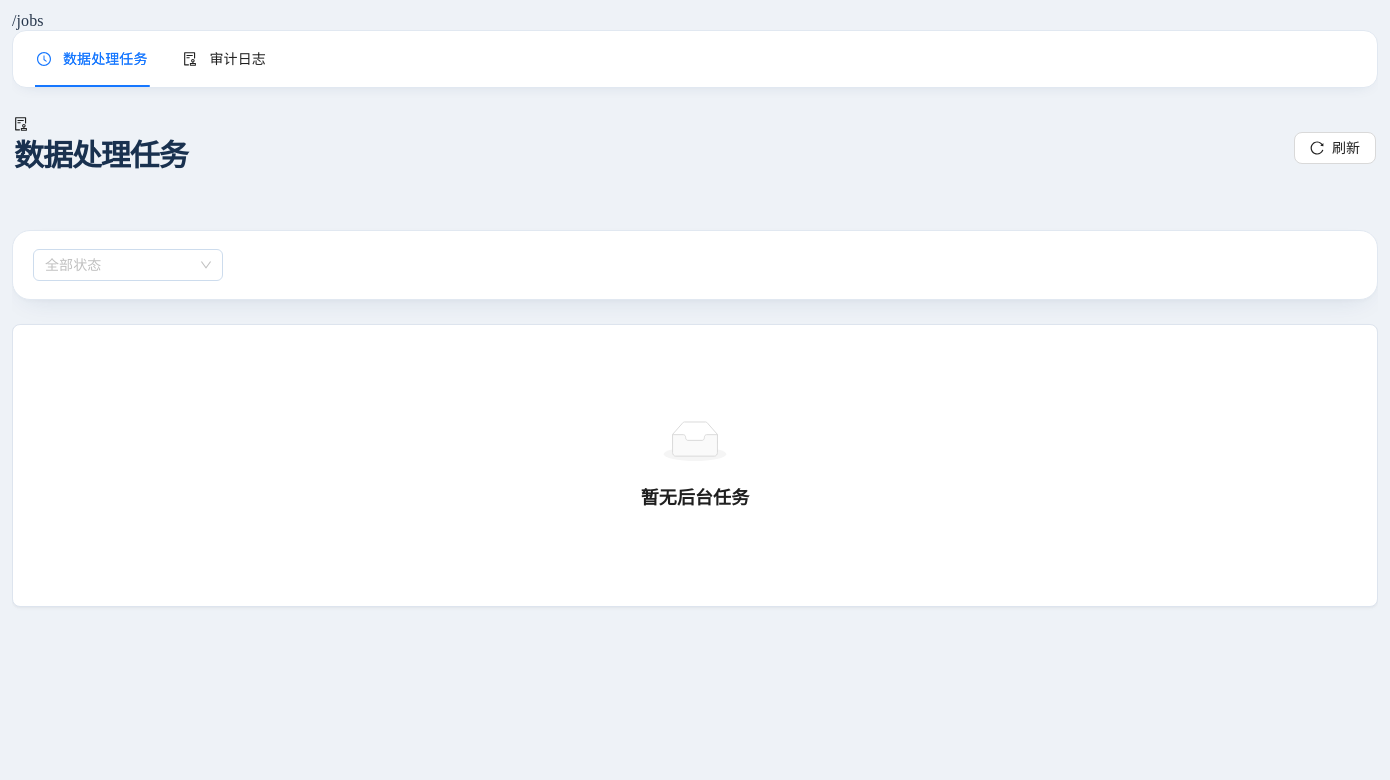
Test case: Tasks and audit workspace › switches between existing task and audit URLs with working audit export
Check: the heading "暂无后台任务" is shown, box [641,487,749,508]
What coordinates should you click on to do the following:
click the tab "审计日志"
I would click on:
 (225, 59)
Its box is [184,48,266,70].
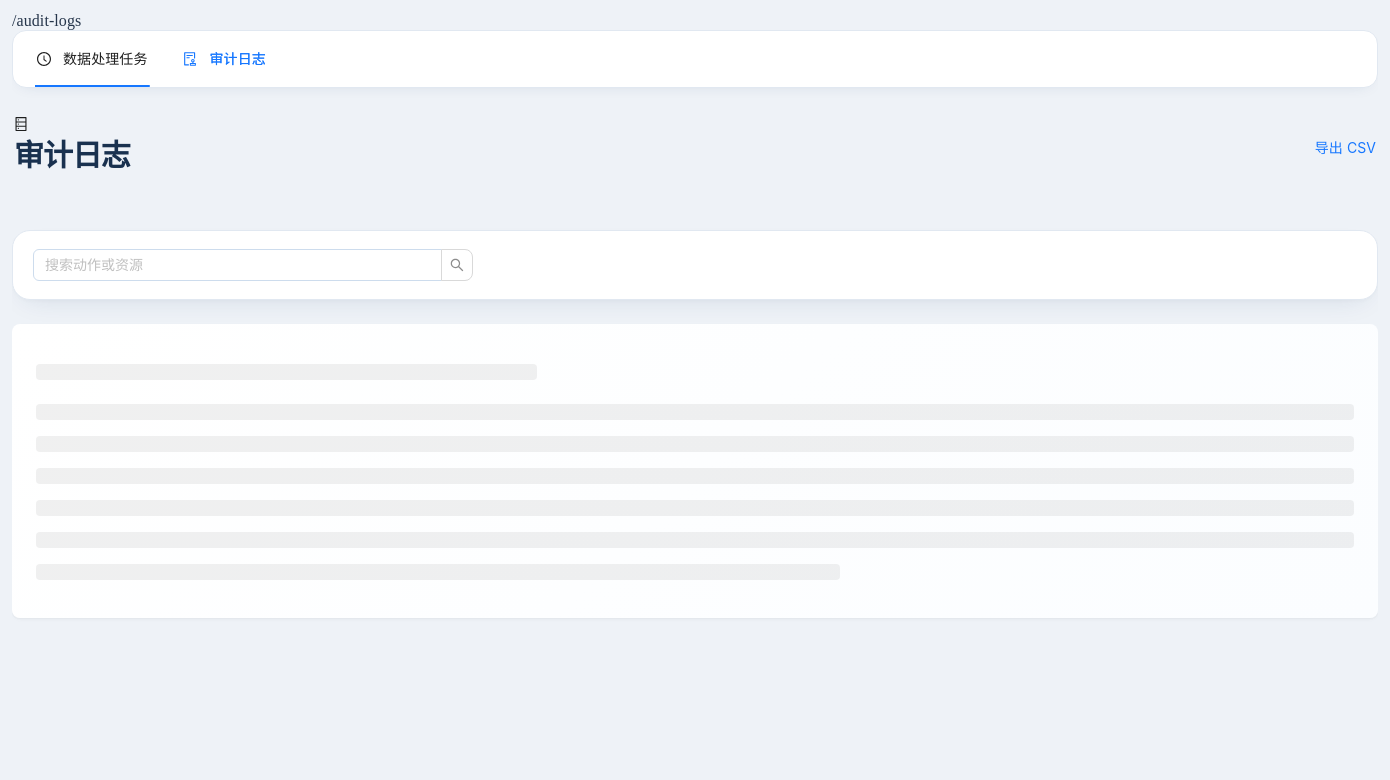
Check: the text with test id "location" reads "/audit-logs", box [12,12,81,29]
What coordinates should you click on to do the following:
click the tab "数据处理任务"
I would click on:
 (92, 59)
Its box is [37,48,148,70].
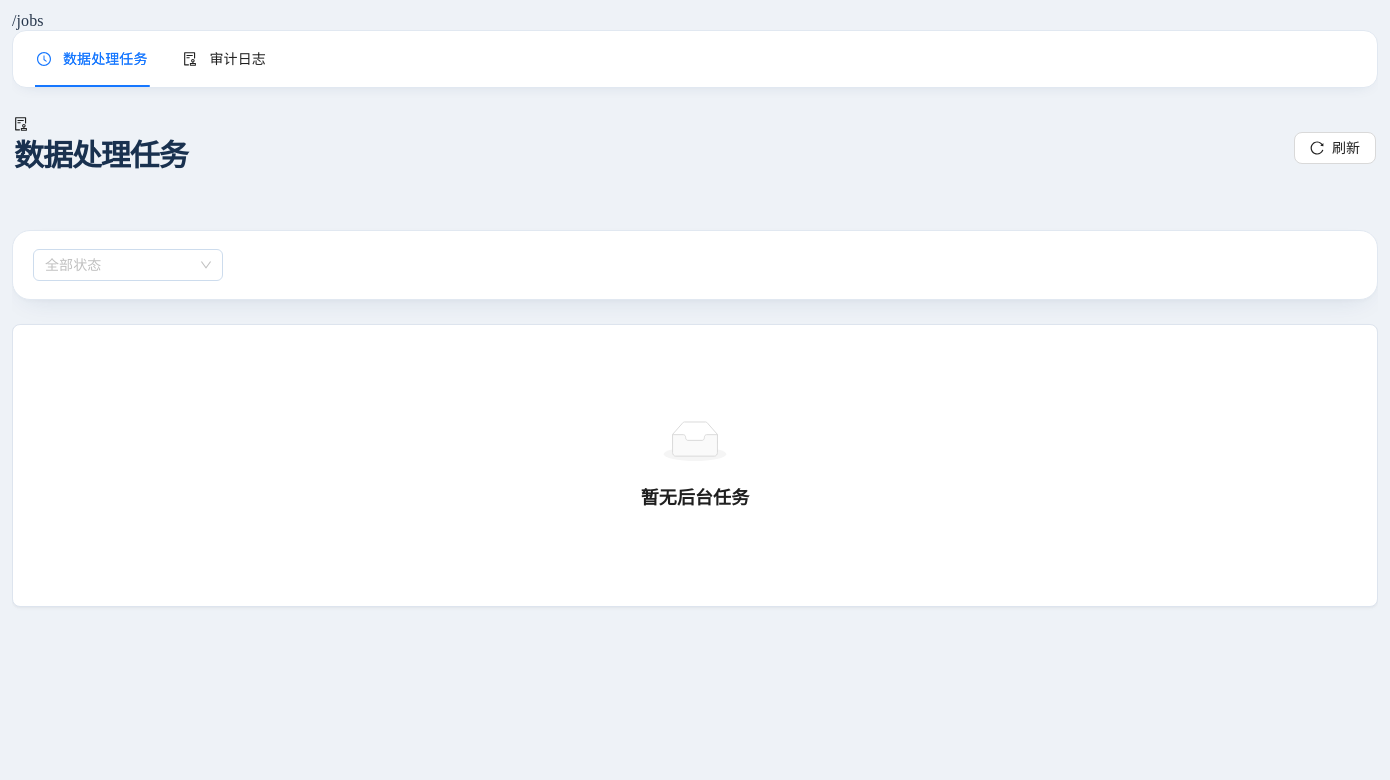
Check: the text with test id "location" reads "/jobs", box [12,12,44,29]
Check: the link "导出 CSV" is gone
